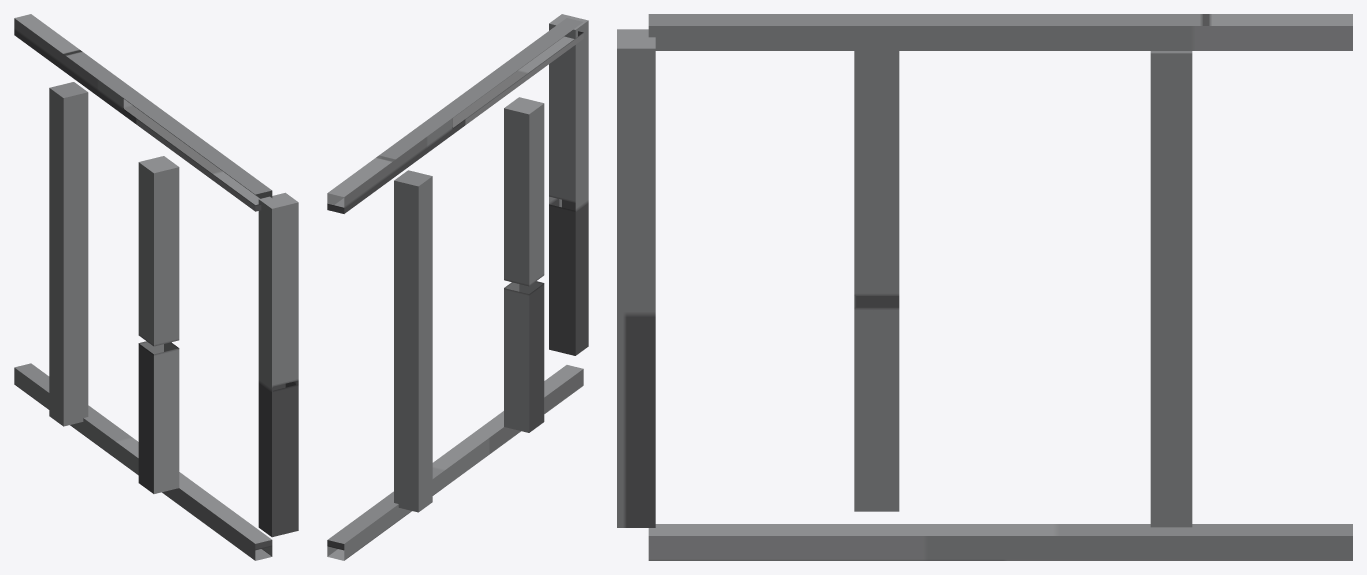
3 renders of one model, left to right at view 1: azimuth 30°, elevation 25°; view 2: azimuth 150°, elevation 25°; view 3: azimuth 270°, elevation 25°, orthographic. The views are drawn at different scales.
Size of the model in its own units: 0.1781 by 0.9817 by 1.22.
